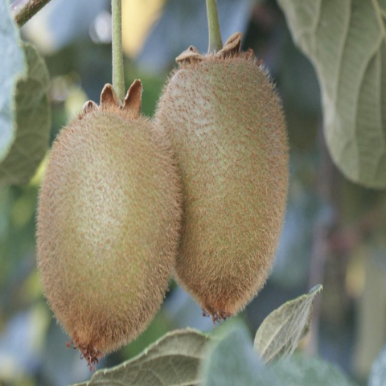kiwi: (144, 42, 303, 318), (37, 73, 183, 365)
